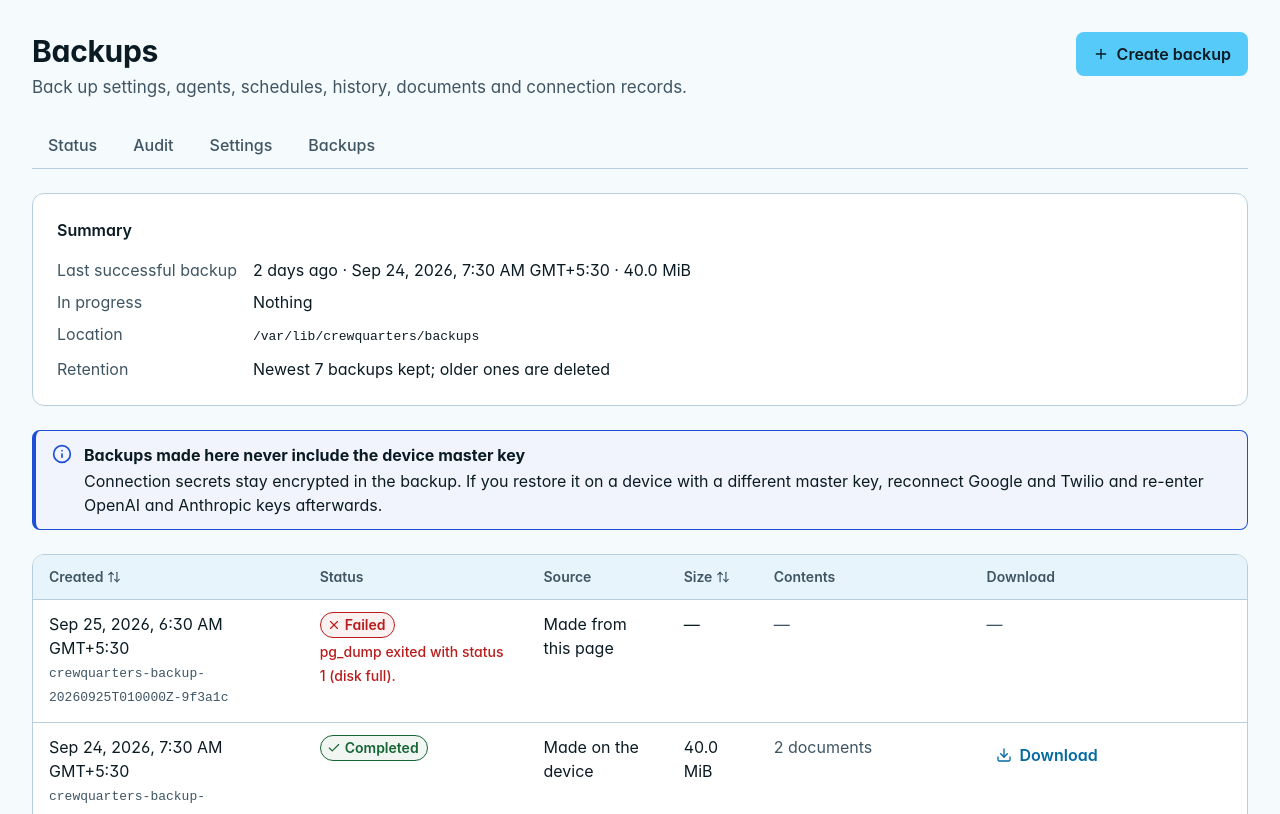
Test case: Backups page › creates a backup with CSRF and an idempotency key, then refreshes the list
This screenshot has width=1280, height=814.
Expected: the text "Last successful backup" is shown, [57, 258, 237, 282]
Click the button "Create backup" at (1162, 54), box [1076, 32, 1248, 76]
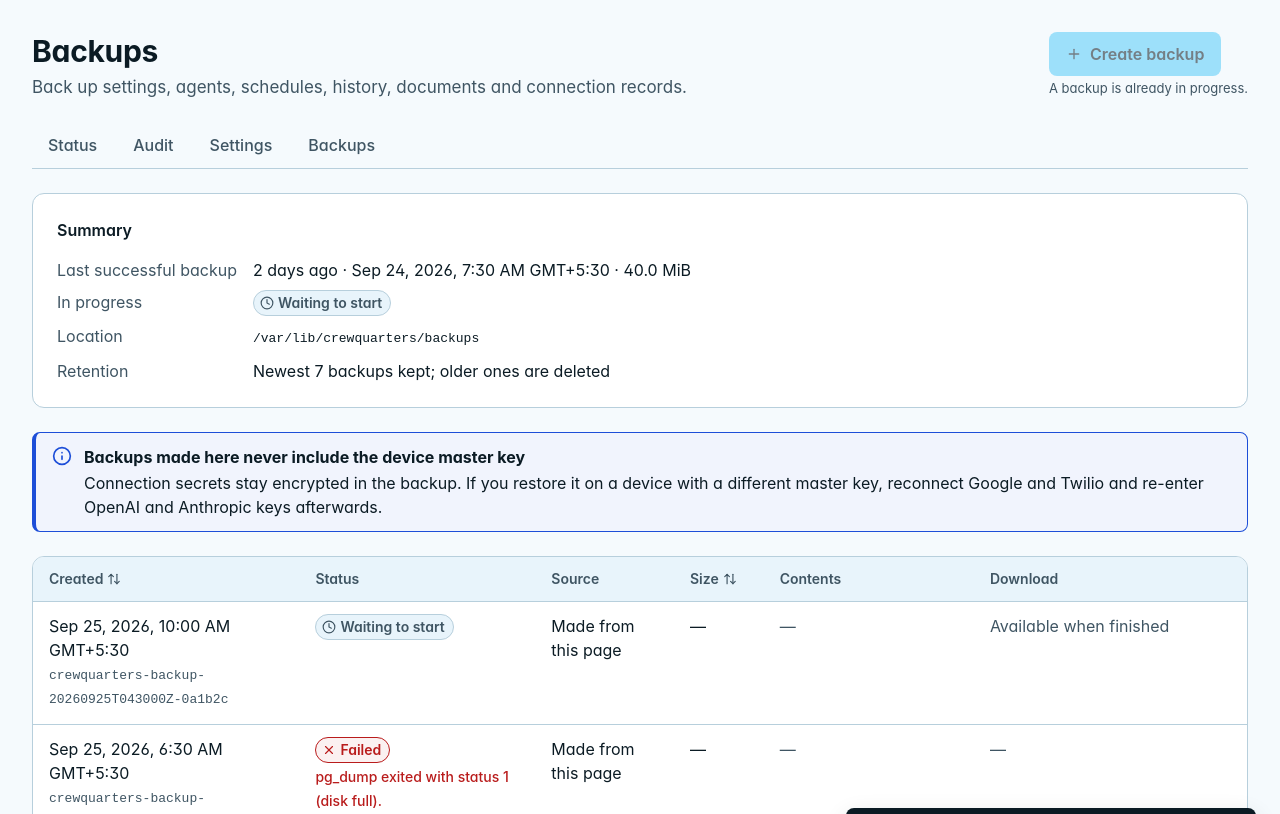
Expected: the text "crewquarters-backup-20260925T043000Z-0a1b2c" is shown, [49, 668, 228, 707]
Expected: the text "Waiting to start" below "Last successful backup" is shown, [278, 294, 382, 311]
Expected: the button "Create backup" is disabled, [1049, 32, 1221, 76]
